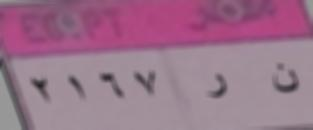1: (64, 68, 88, 104)
2: (28, 72, 54, 108)
6: (96, 69, 126, 108)
7: (131, 65, 162, 96)
noon: (265, 60, 302, 105)
raa: (199, 65, 231, 106)
